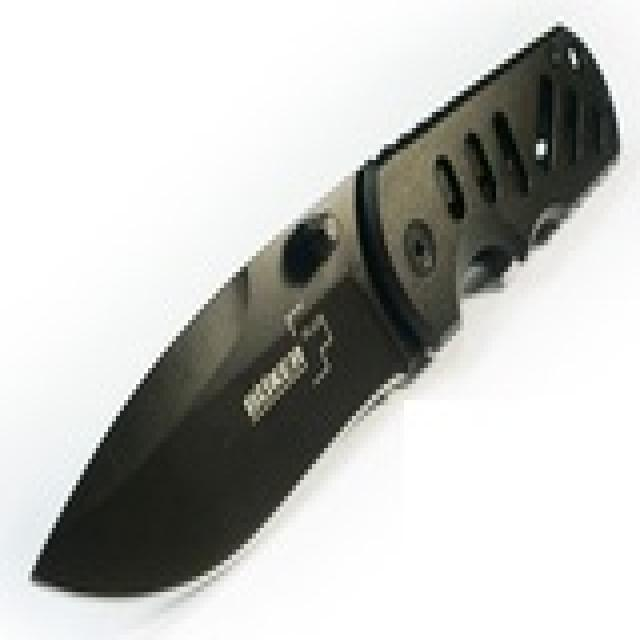Knife: (12, 28, 613, 615)
